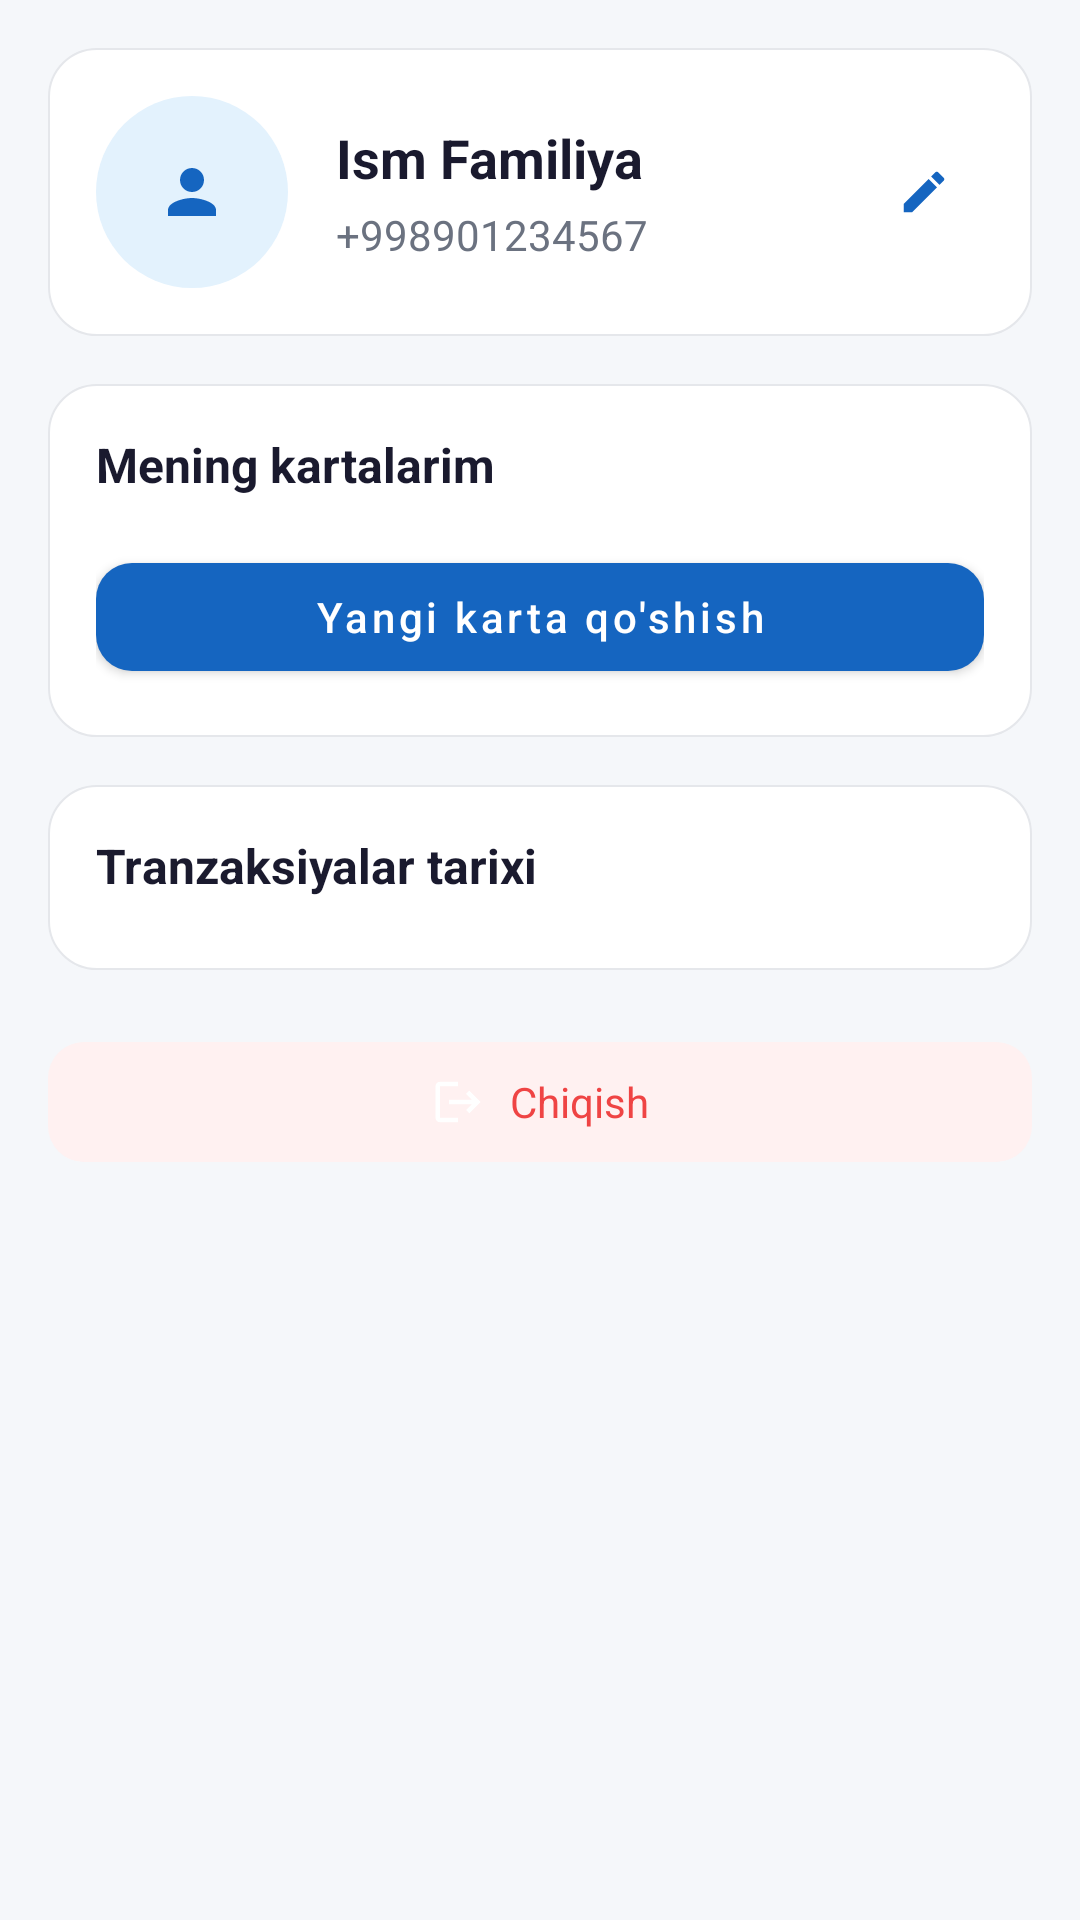

Named icons in this screenshot (1080*1920) and their bounding boxes, bbox(x1, y1, x2, y2):
profile: bbox(96, 96, 288, 288)
Tahrirlash: bbox(903, 171, 945, 213)
